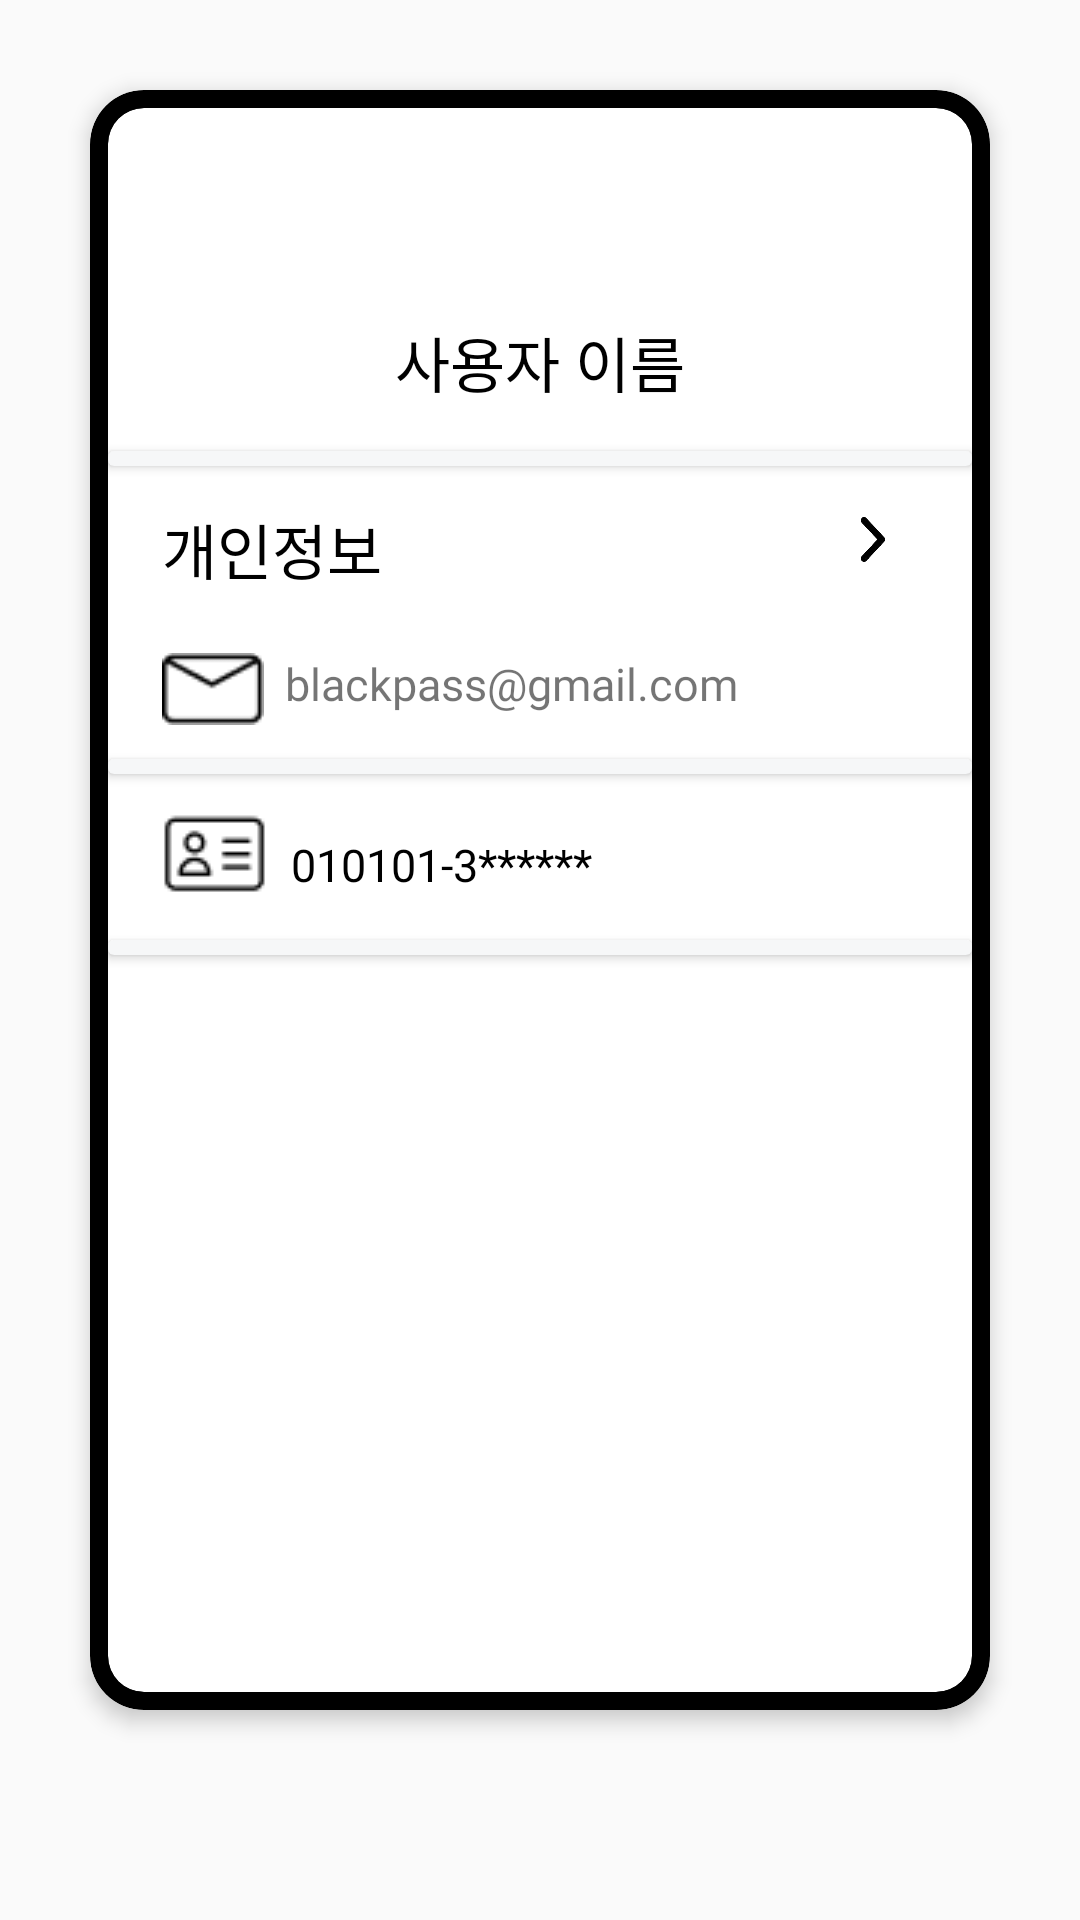

Point at icon controls on the screen. Image size 1080px×1920px, points as (x,y).
email: (213,689)
right arrow: (873,539)
